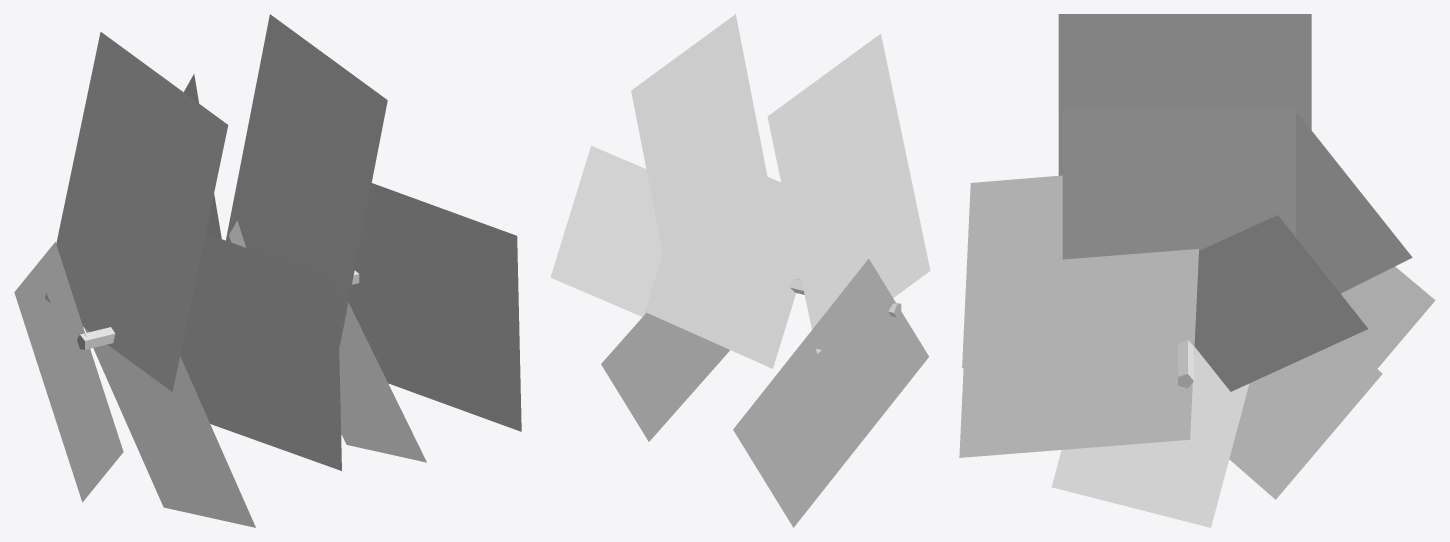
The model's file is VineSplineMesh_Textured_2.fbx.
3 renders of one model, left to right at view 1: azimuth 30°, elevation 25°; view 2: azimuth 150°, elevation 25°; view 3: azimuth 270°, elevation 25°, orthographic. The views are drawn at different scales.
Visible parts, largest first — view 1: Plane.009; view 2: Plane.009; view 3: Plane.009.
Boxes of the visible parts, box(x1,y1,x2,y2) form: Plane.009: box(14, 14, 521, 527); Plane.009: box(550, 14, 930, 527); Plane.009: box(959, 14, 1435, 527).
Size of the model in its own units: 70 by 90.09 by 85.12.
Materials: 2 (1 with a texture image).
